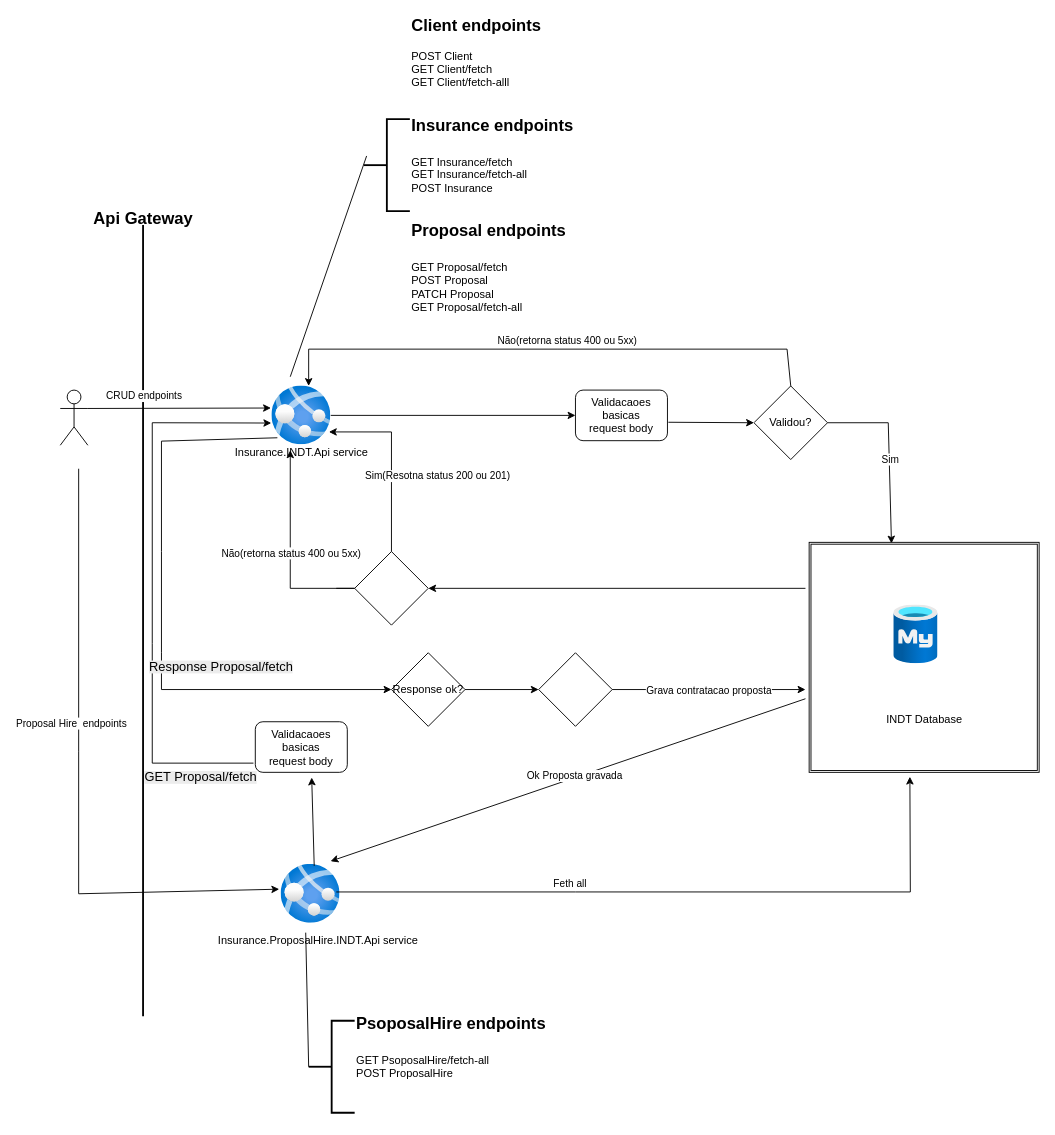
The diagram is 1055 pixels wide and 1135 high, and some of its shapes have lost their labels. The shapes that lost their labels are listed below. From the top down, each one's centre as x and y in pixels, then its label:
(x=73, y=417): Actor
(x=391, y=588): Persistiu ok?
(x=575, y=689): Proposta aprovada?
